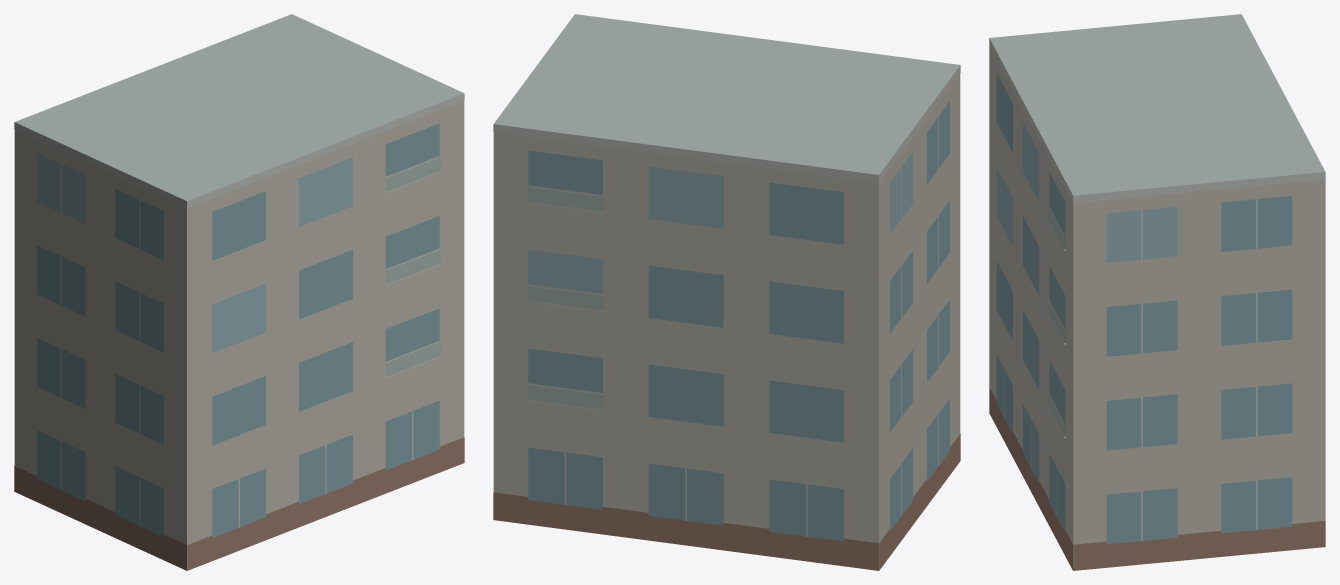
Rendered from residential-0e03275c-f4c9-4a96-a559-71ee1bd4ae00.glb.
3 renders of one model, left to right at view 1: azimuth 30°, elevation 25°; view 2: azimuth 150°, elevation 25°; view 3: azimuth 270°, elevation 25°, orthographic. The views are drawn at different scales.
Parts seen in each view (by area): view 1: residential-0e03275c-f4c9-4a96-a559-71ee1bd4ae00.tmp; view 2: residential-0e03275c-f4c9-4a96-a559-71ee1bd4ae00.tmp; view 3: residential-0e03275c-f4c9-4a96-a559-71ee1bd4ae00.tmp.
Boxes of the visible parts, <box> form: residential-0e03275c-f4c9-4a96-a559-71ee1bd4ae00.tmp: <box>14,14,464,570</box>; residential-0e03275c-f4c9-4a96-a559-71ee1bd4ae00.tmp: <box>493,14,960,570</box>; residential-0e03275c-f4c9-4a96-a559-71ee1bd4ae00.tmp: <box>989,14,1325,570</box>.
Size of the model in its own units: 12.69 by 12.2 by 9.92.
